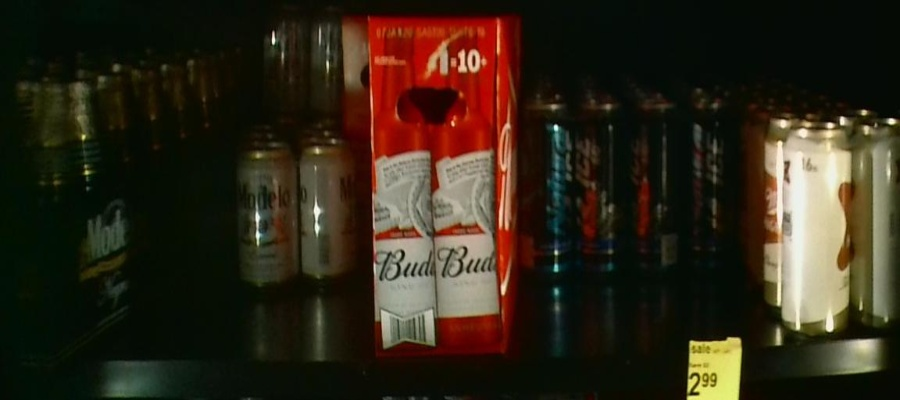bottle: (368, 15, 518, 353), (783, 119, 900, 339), (229, 140, 357, 293), (527, 101, 627, 277), (628, 102, 727, 275)
